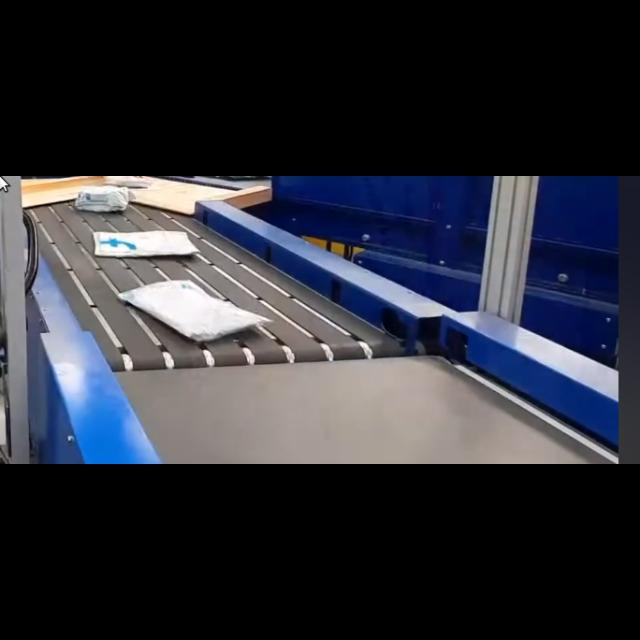mailer: (124, 280, 262, 340), (93, 230, 199, 260), (78, 184, 128, 212)
